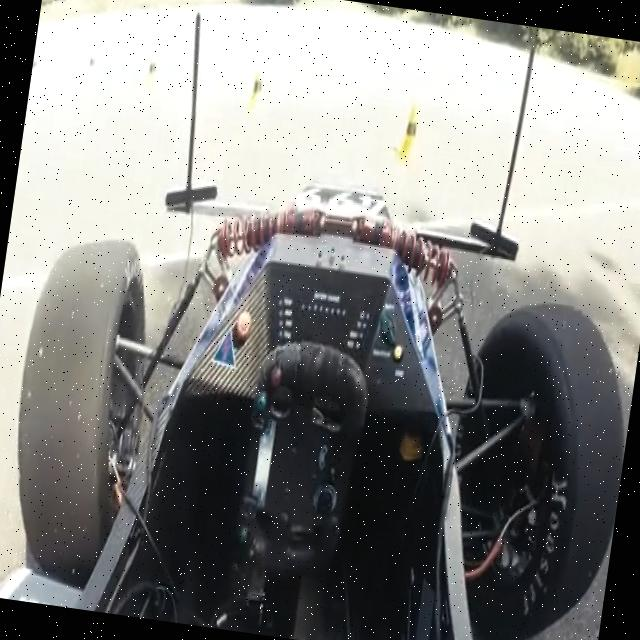yellow_cone: (392, 100, 432, 158)
